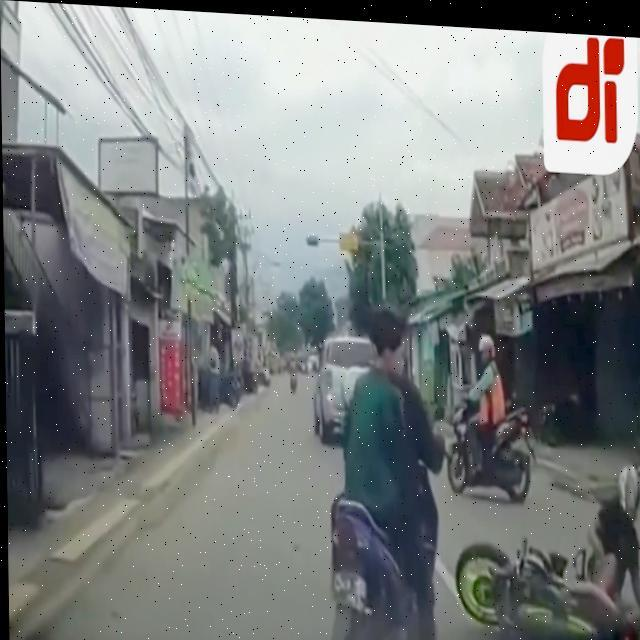normal: (425, 313, 563, 525)
single accident: (453, 523, 640, 640)
